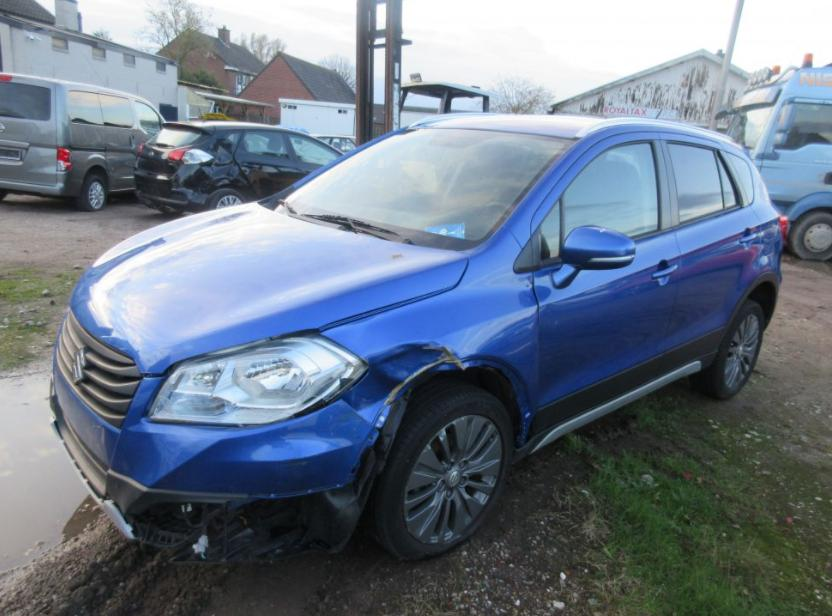Back-door: (658, 133, 761, 376)
Back-wheel: (691, 298, 763, 397)
Back-window: (668, 144, 740, 224), (725, 153, 752, 204)
Fender: (322, 229, 539, 440)
Front-bumper: (46, 364, 390, 563)
Front-door: (528, 132, 680, 440)
Front-wheel: (361, 379, 514, 557)
Front-window: (540, 144, 659, 260)
Grille: (56, 307, 141, 425)
Headlight: (146, 332, 368, 430)
Hood: (67, 202, 466, 376)
Mirror: (551, 226, 633, 288)
Quarter-panel: (751, 199, 784, 285)
Rocker-panel: (514, 352, 715, 463)
Roof: (413, 112, 743, 149)
Tail-light: (780, 216, 788, 244)
Windshield: (257, 126, 578, 257)
